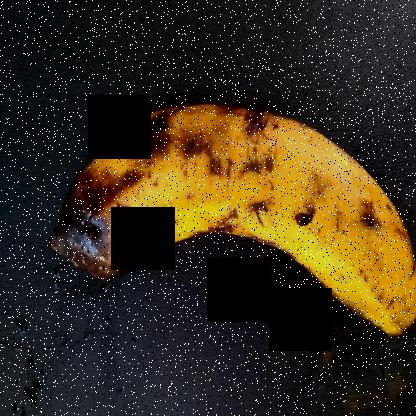overripe: (159, 76, 415, 358)
rotten: (39, 93, 217, 292)
